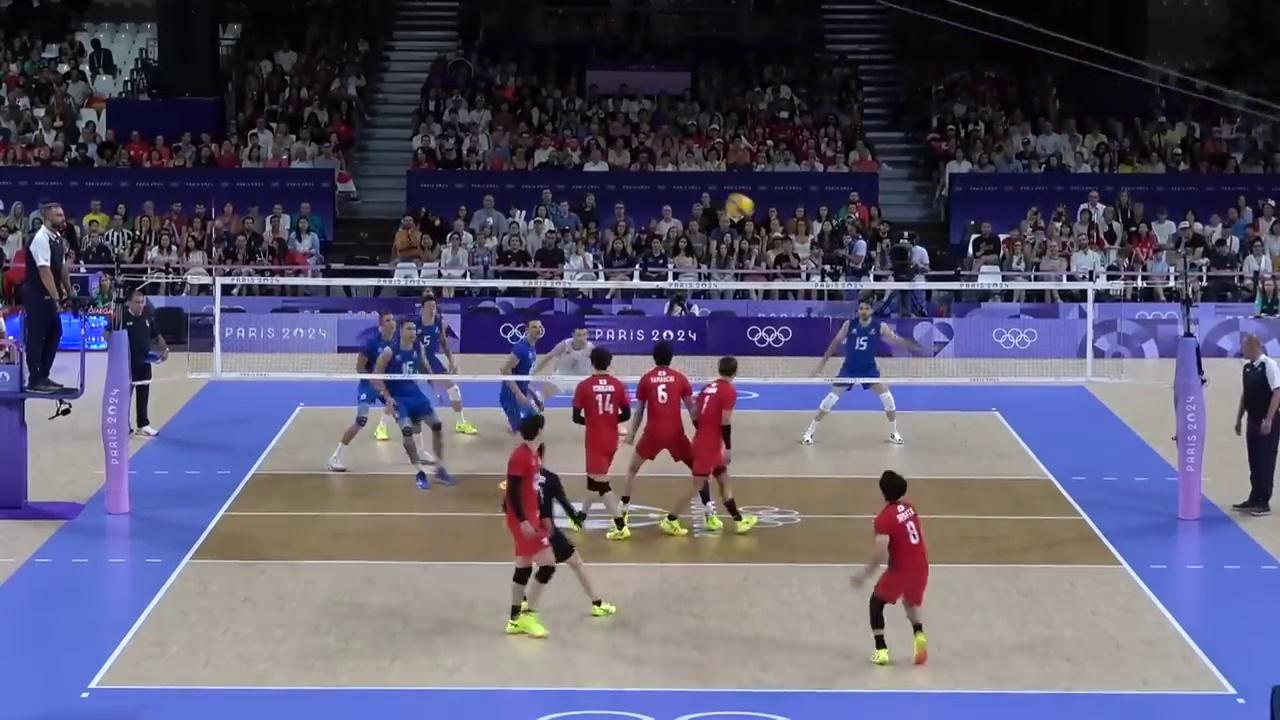ball: (728, 195, 753, 219)
